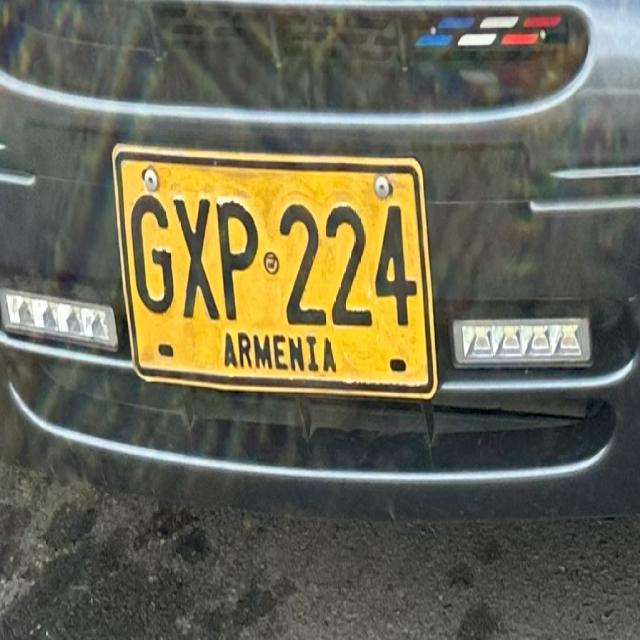number plate: (112, 144, 436, 395)
